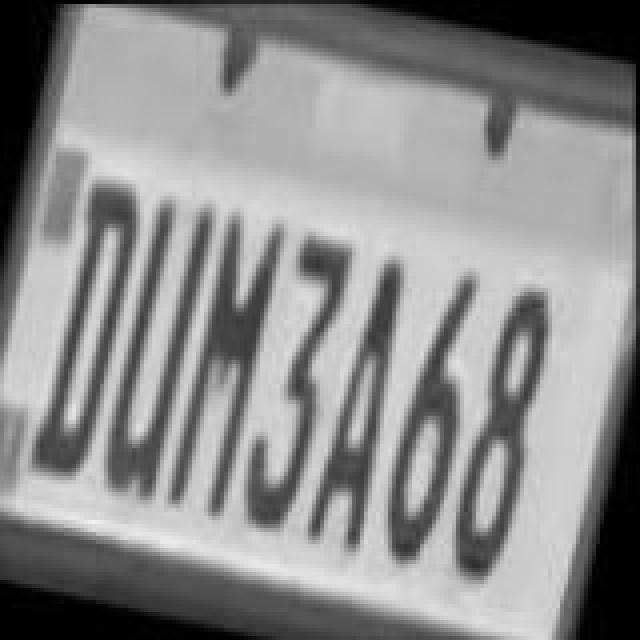3: (230, 222, 362, 542)
6: (370, 260, 502, 572)
8: (436, 270, 572, 590)
A: (302, 244, 434, 560)
D: (20, 170, 152, 486)
M: (158, 204, 294, 524)
U: (90, 190, 226, 510)
